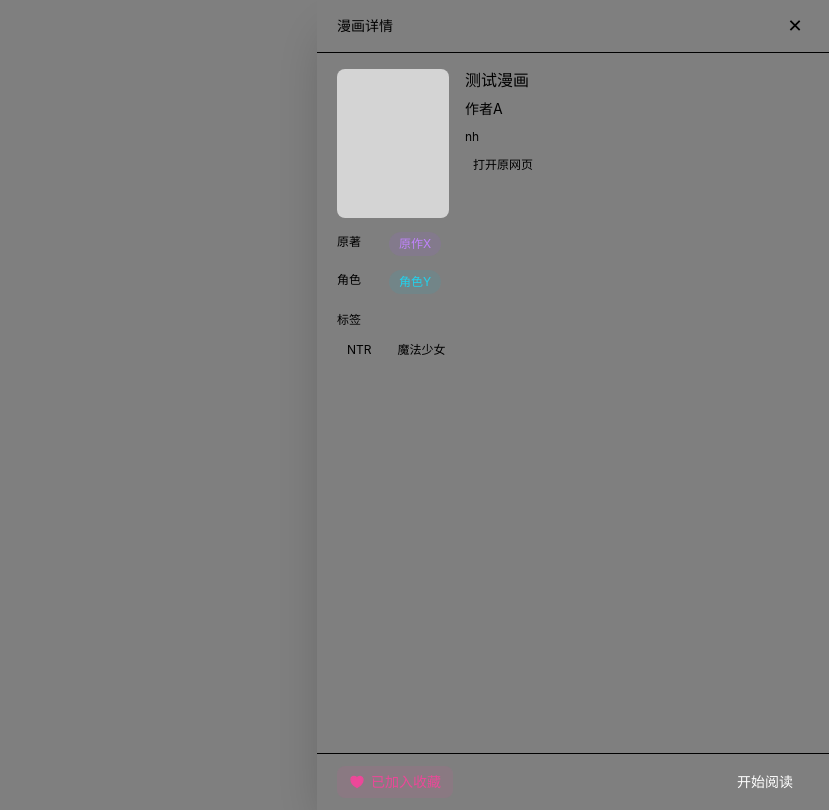
Scenario: ComicInfoDrawer - 收藏状态提交 › NH 移除收藏返回 false 时恢复已收藏状态并提示失败
Click the button "已加入收藏": click(395, 782) top-left (337, 766), bottom-right (453, 798)
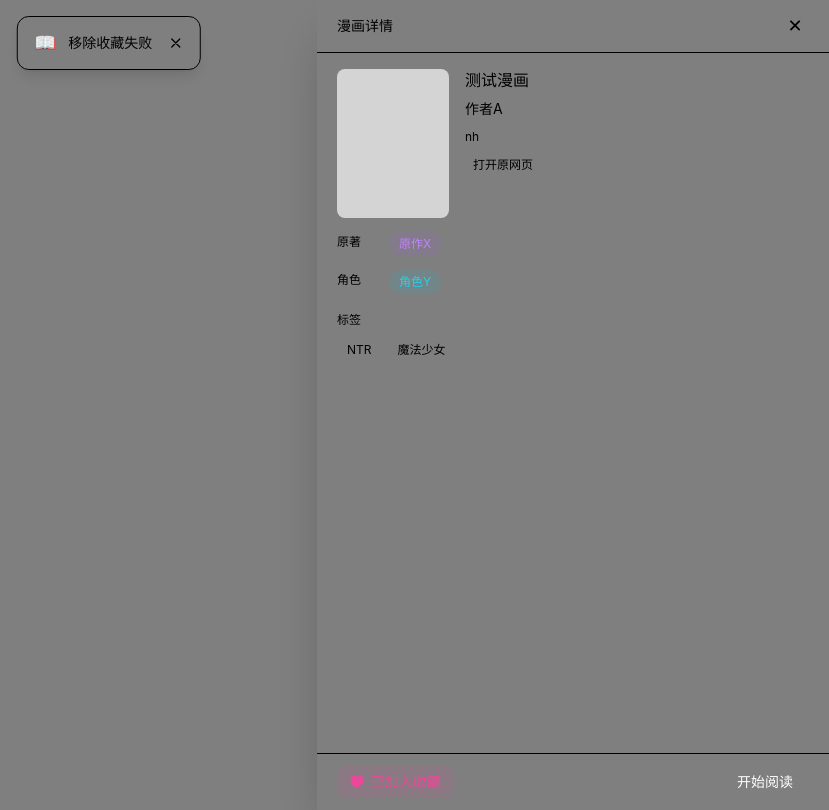
Now the text "移除收藏失败" is shown, box top-left (68, 33), bottom-right (152, 53)
